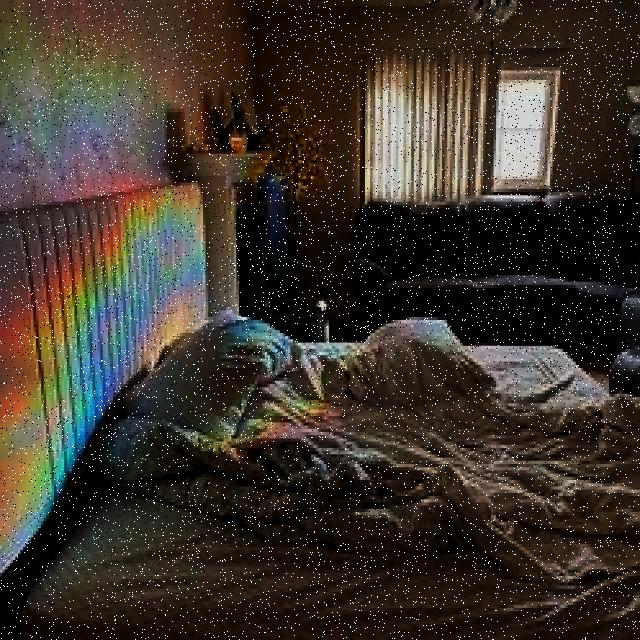bed: (20, 313, 640, 640)
